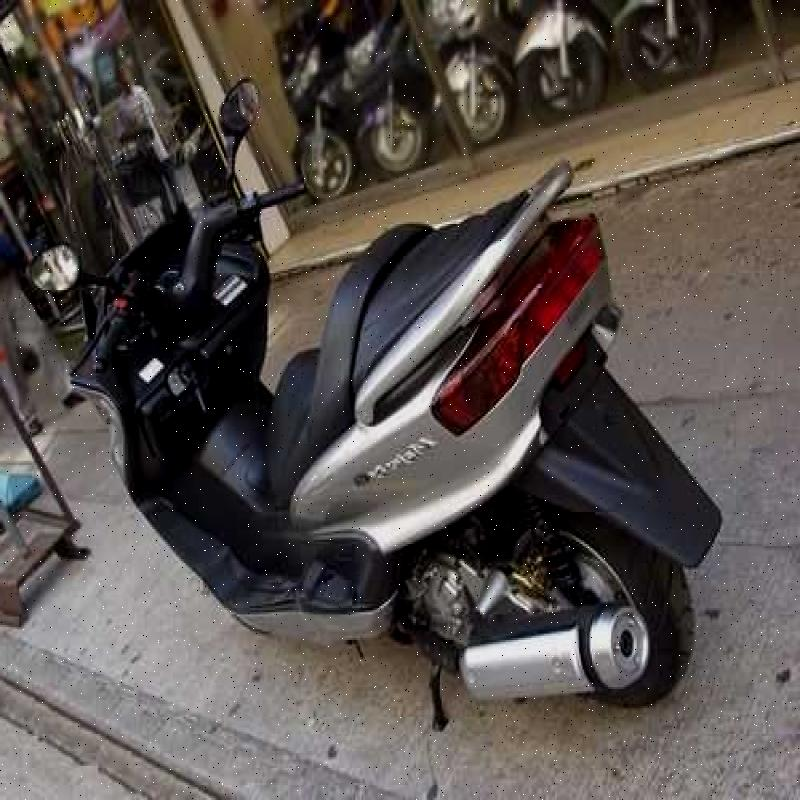bike: (94, 66, 622, 734)
